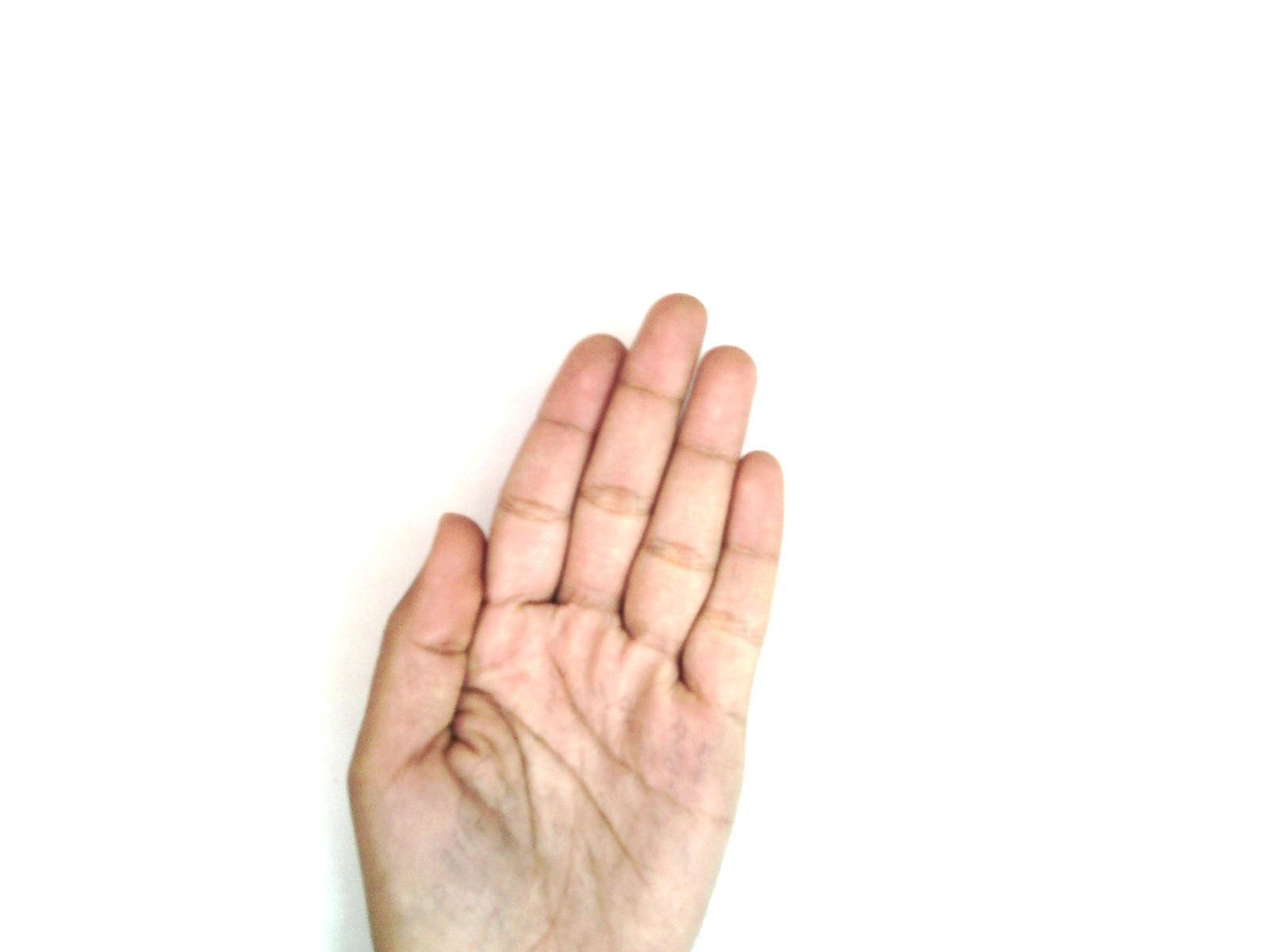open_palm: (344, 292, 788, 951)
